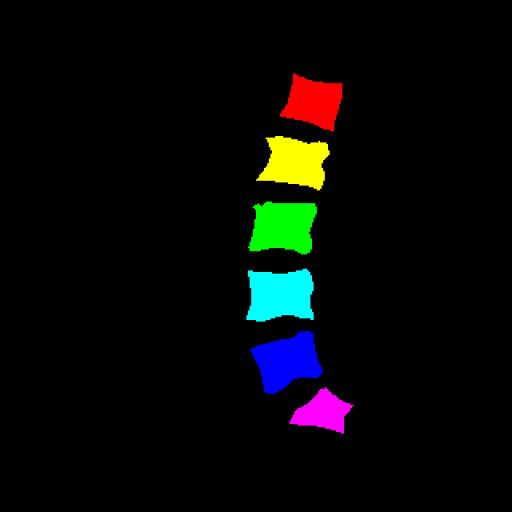L1: (280, 74, 342, 130)
L2: (258, 134, 330, 190)
L3: (249, 202, 317, 254)
L4: (246, 269, 314, 321)
L5: (251, 331, 323, 393)
S1: (290, 388, 353, 434)
